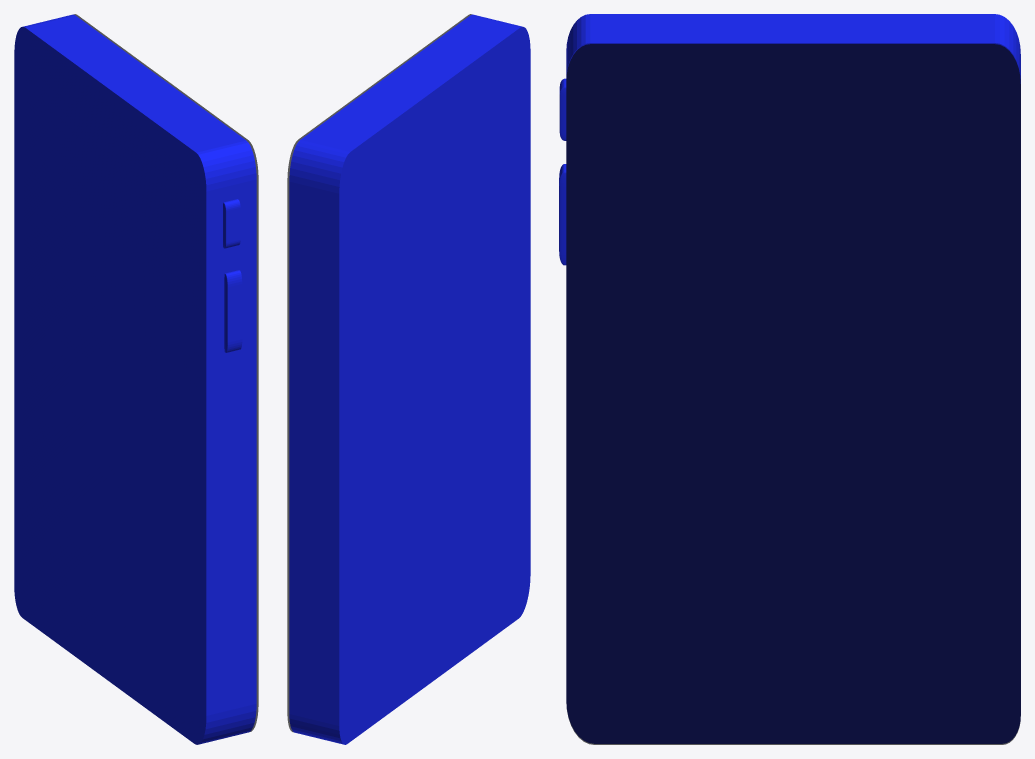
File: cellphone.glb
The picture shows the model from 3 angles, left to right: view 1: azimuth 30°, elevation 25°; view 2: azimuth 150°, elevation 25°; view 3: azimuth 270°, elevation 25°; orthographic projection. The views are drawn at different scales.
Visible parts, largest first — view 1: Cube, Cube.001; view 2: Cube, Cube.001; view 3: Cube, Cube.001.
Boxes of the visible parts, x1=… form: Cube: x1=14, y1=14, x2=256, y2=744; Cube.001: x1=74, y1=14, x2=258, y2=731; Cube: x1=289, y1=14, x2=530, y2=744; Cube.001: x1=287, y1=14, x2=471, y2=731; Cube: x1=559, y1=14, x2=1020, y2=743; Cube.001: x1=566, y1=44, x2=1020, y2=744.
Bounding box in the file's own units: 0.6751 × 7.33 × 4.38.
